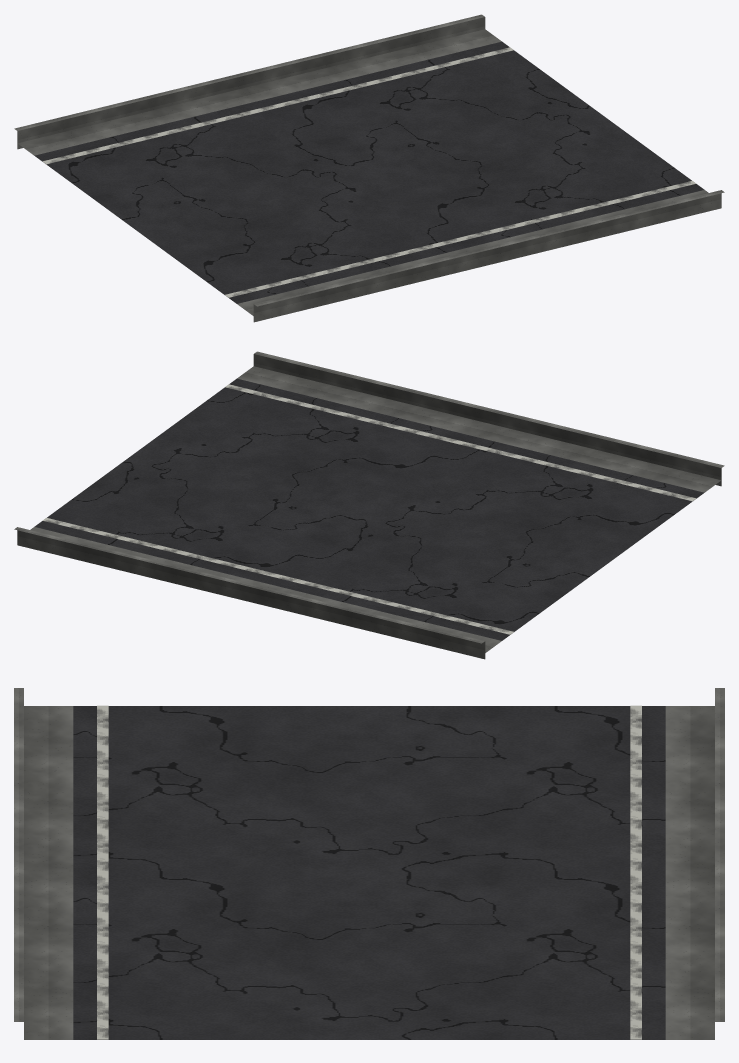
Rendered from road.glb.
The picture shows the model from 3 angles, top to bottom: view 1: azimuth 30°, elevation 25°; view 2: azimuth 150°, elevation 25°; view 3: azimuth 270°, elevation 25°; orthographic projection. The views are drawn at different scales.
Parts seen in each view (by area): view 1: road; view 2: road; view 3: road.
Boxes of the visible parts, box(x1,y1,x2,y2) form: road: box(14, 14, 724, 322); road: box(14, 351, 724, 659); road: box(14, 688, 724, 1039).
Size of the model in its own units: 8 by 0.3 by 7.2.
Materials: 3 (3 with a texture image).
